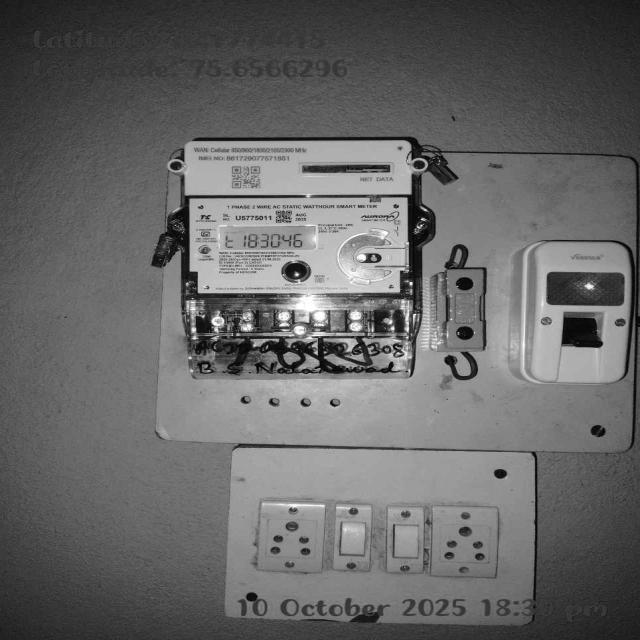meter: (180, 140, 416, 299)
